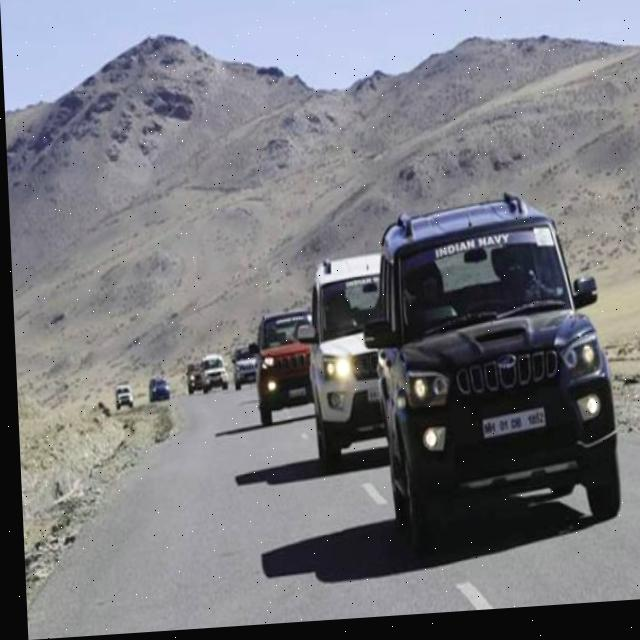plate: (475, 412, 543, 446)
